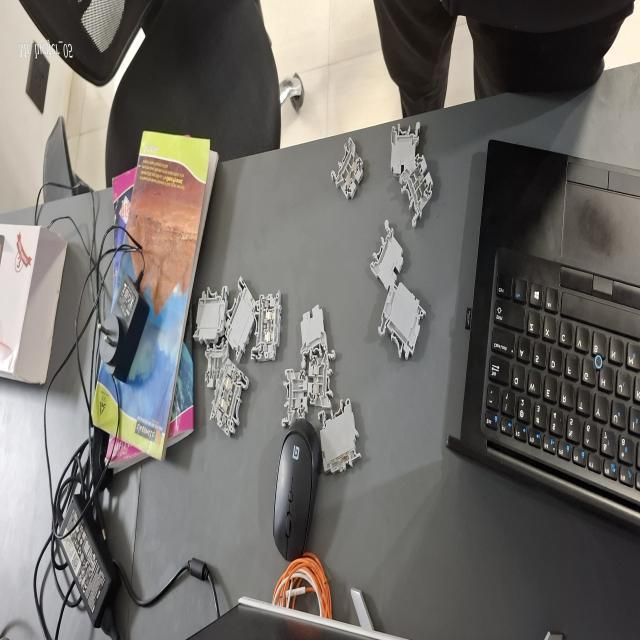Inverted: (295, 292, 336, 370), (368, 218, 406, 300)
Pass: (398, 152, 436, 232), (331, 137, 364, 205), (308, 348, 337, 414)
Reject: (276, 367, 308, 428)
